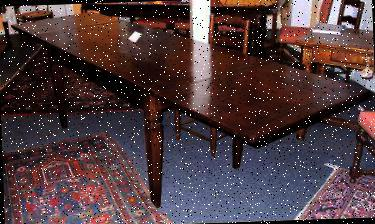Mesa: (9, 2, 374, 223)
Silla: (166, 14, 259, 153)
